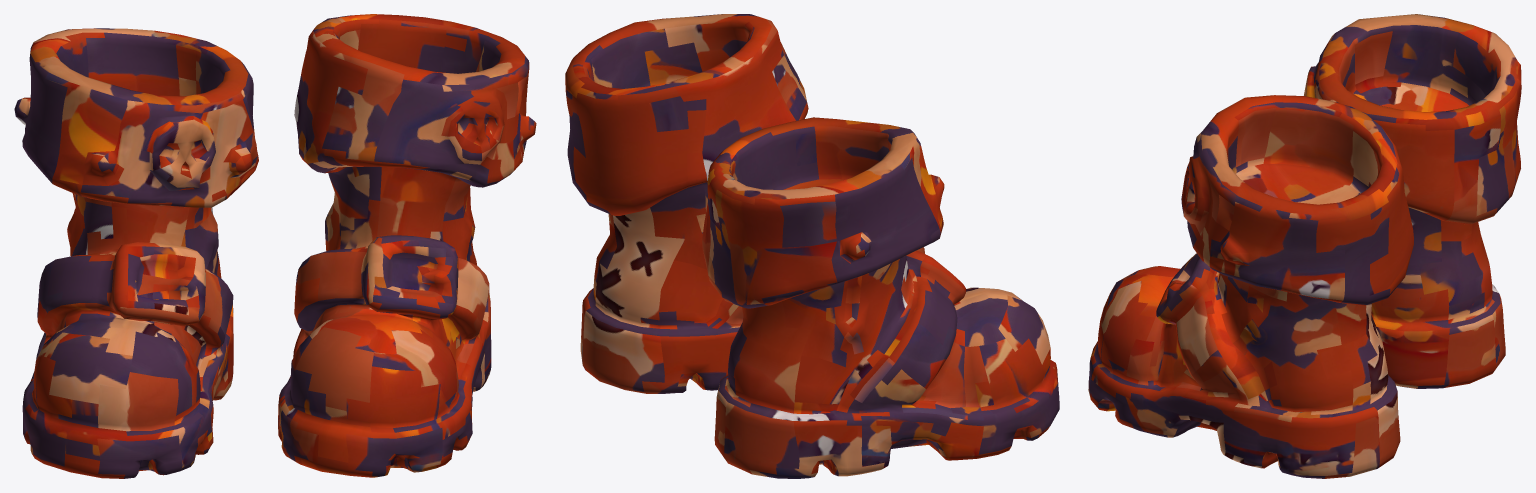
The model's file is botas.fbx.
3 views of the same model, side by side, from view 1: azimuth 30°, elevation 25°; view 2: azimuth 150°, elevation 25°; view 3: azimuth 270°, elevation 25° (orthographic). The views are drawn at different scales.
Parts seen in each view (by area): view 1: tripo_node_2f64d922; view 2: tripo_node_2f64d922; view 3: tripo_node_2f64d922.
Part boxes in pixels (<box>): tripo_node_2f64d922: <box>14,14,536,478</box>; tripo_node_2f64d922: <box>565,14,1059,478</box>; tripo_node_2f64d922: <box>1088,14,1521,478</box>.
Size of the model in its own units: 0.9772 by 0.6634 by 0.8192.
